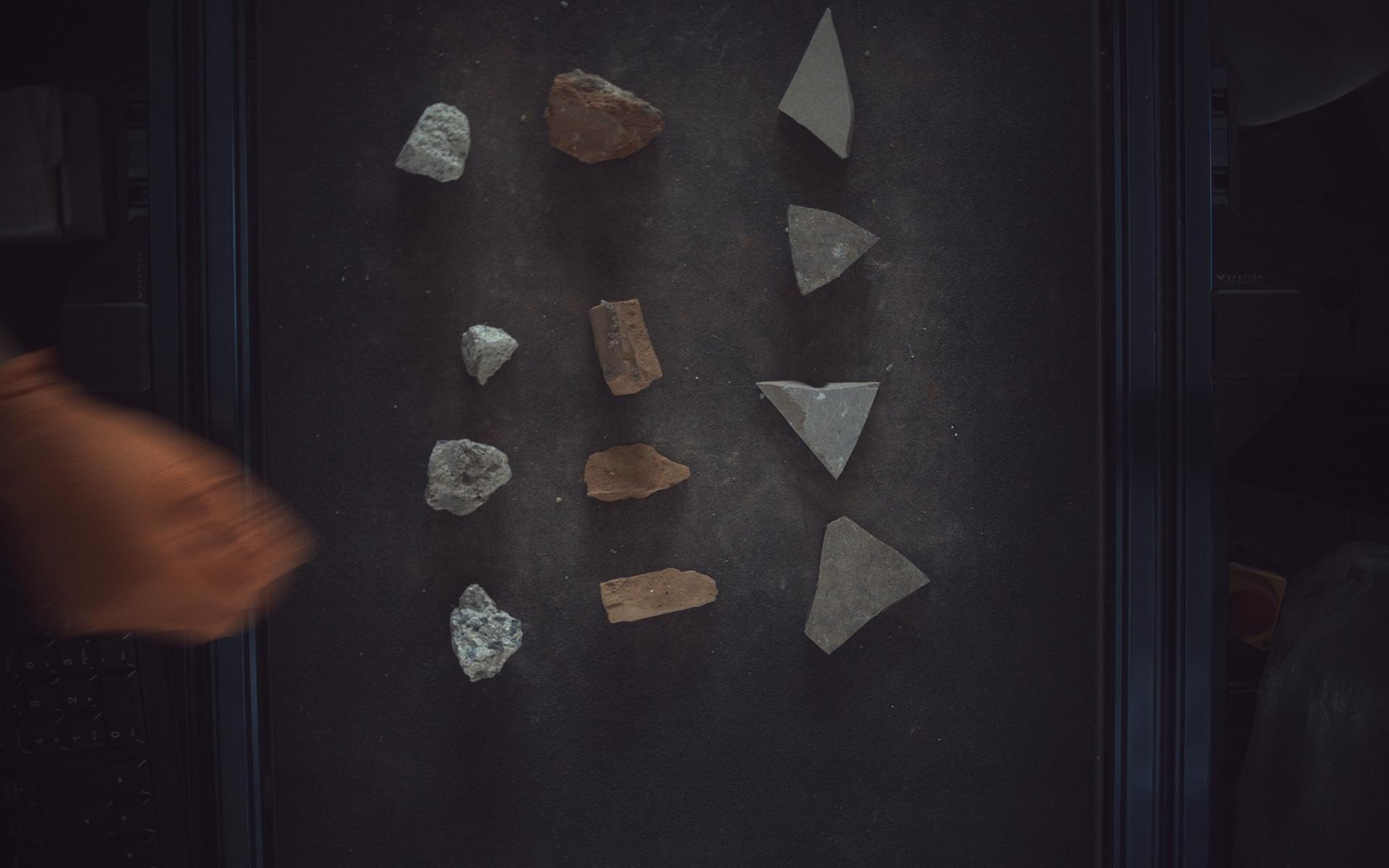brick: (545, 68, 665, 162), (590, 300, 663, 395), (602, 569, 718, 624), (585, 443, 692, 502)
concrete: (450, 584, 523, 683), (426, 440, 512, 516), (395, 101, 470, 182), (462, 324, 519, 385)
tile: (806, 516, 930, 655), (759, 380, 881, 478), (780, 7, 855, 158), (789, 204, 880, 294)
